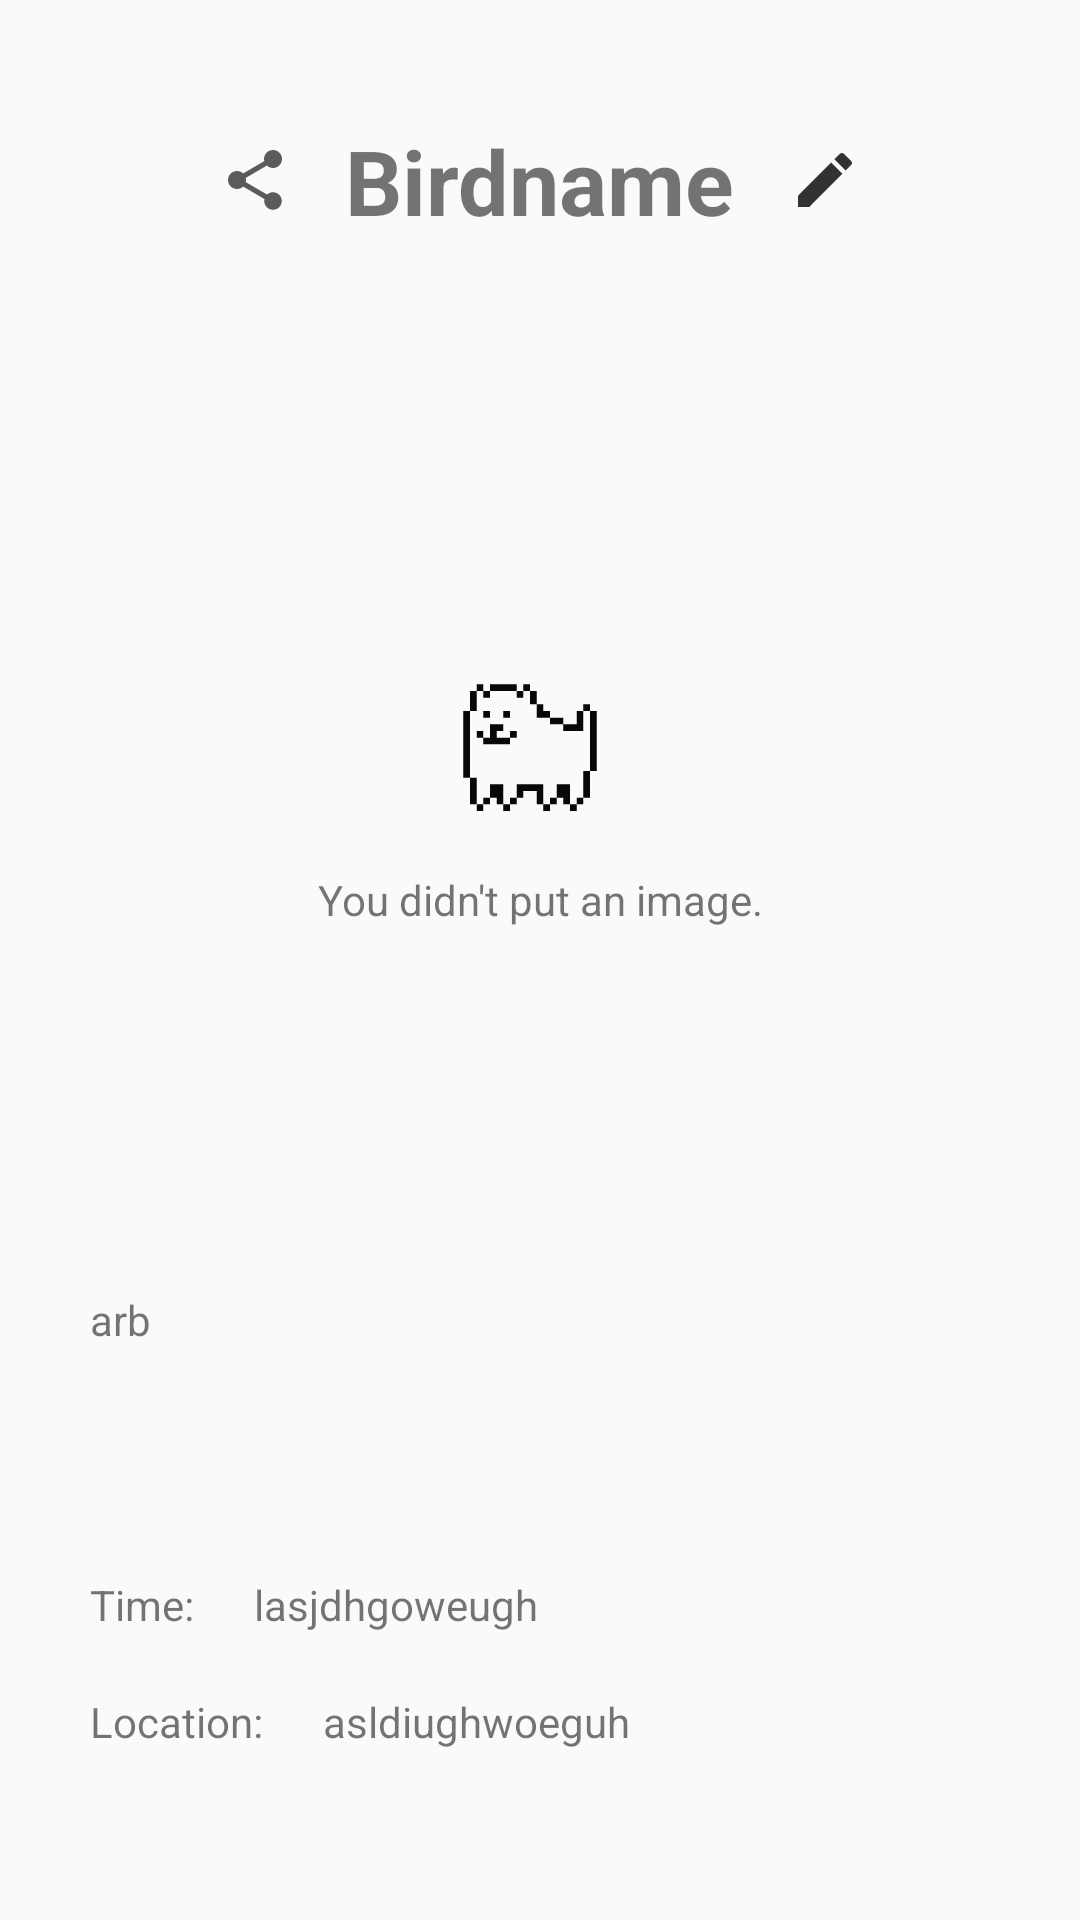

Locate icon controls on the screen. Image size 1080px×1920px, boxes as (x1, y1, x2, y2).
edit: (798, 153, 852, 207)
share: (228, 150, 282, 210)
